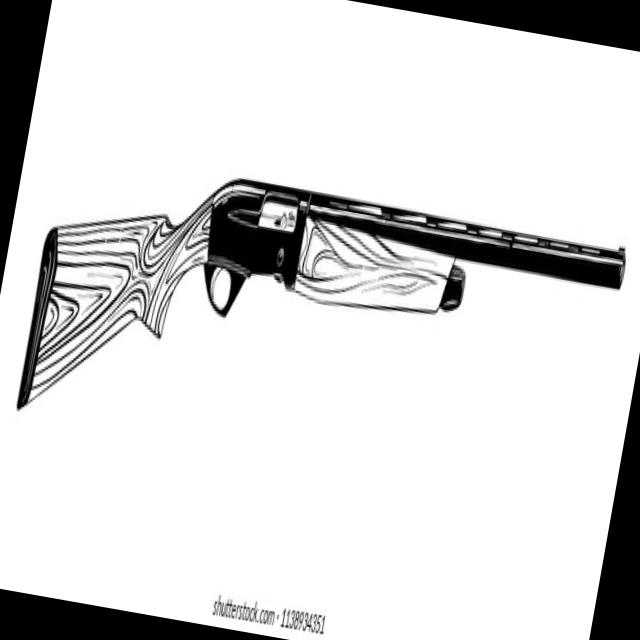Weapon: (9, 112, 640, 523)
